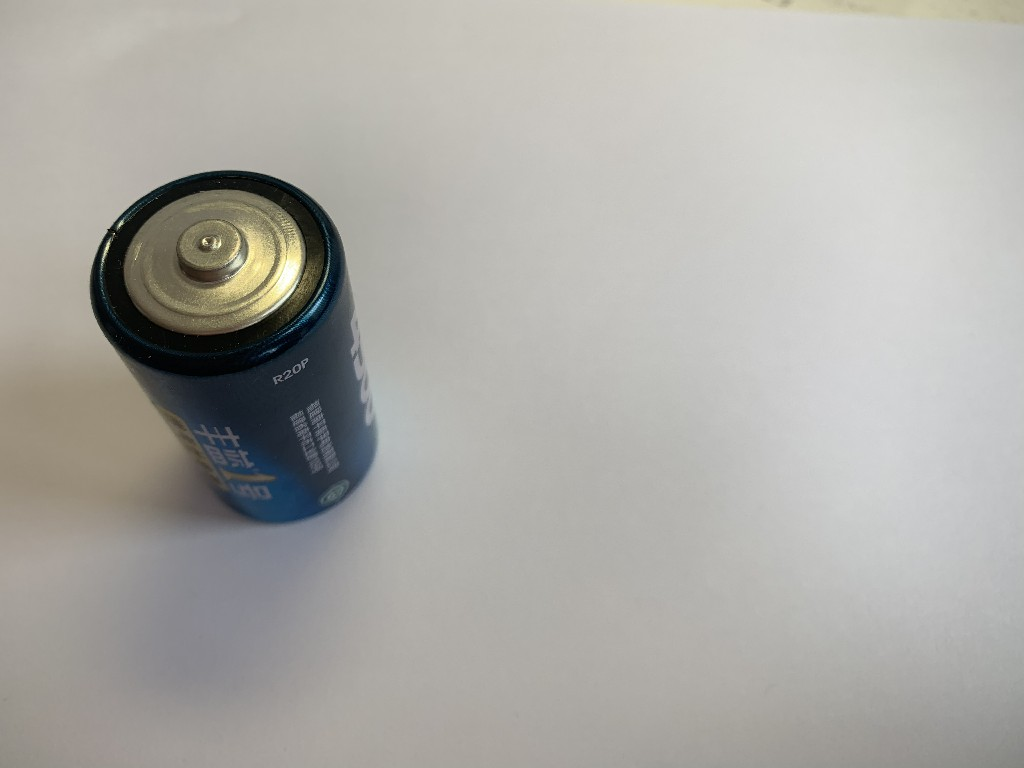charge: (78, 165, 386, 533)
